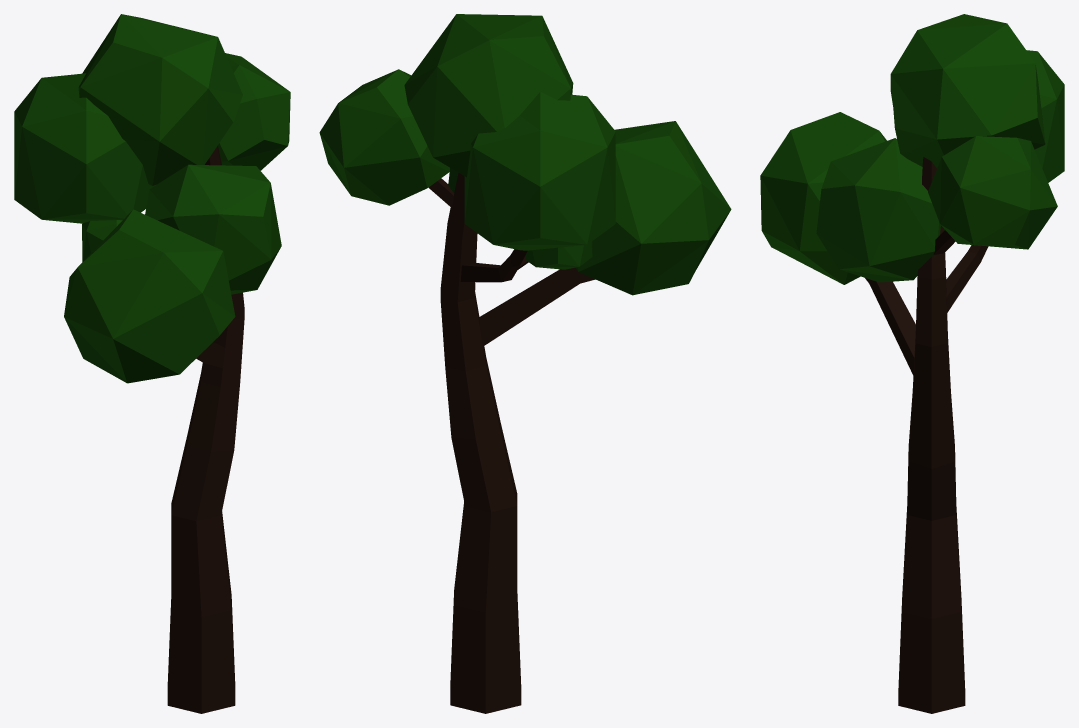
Rendered from SimpleTree001.FBX.
3 renders of one model, left to right at view 1: azimuth 30°, elevation 25°; view 2: azimuth 150°, elevation 25°; view 3: azimuth 270°, elevation 25°, orthographic. The views are drawn at different scales.
Parts seen in each view (by area): view 1: Cylinder001; view 2: Cylinder001; view 3: Cylinder001.
Boxes of the visible parts, <box> form: Cylinder001: <box>14,14,290,713</box>; Cylinder001: <box>319,14,731,713</box>; Cylinder001: <box>760,14,1064,713</box>.
Bounding box in the file's own units: 94.27 × 211 × 88.83.
